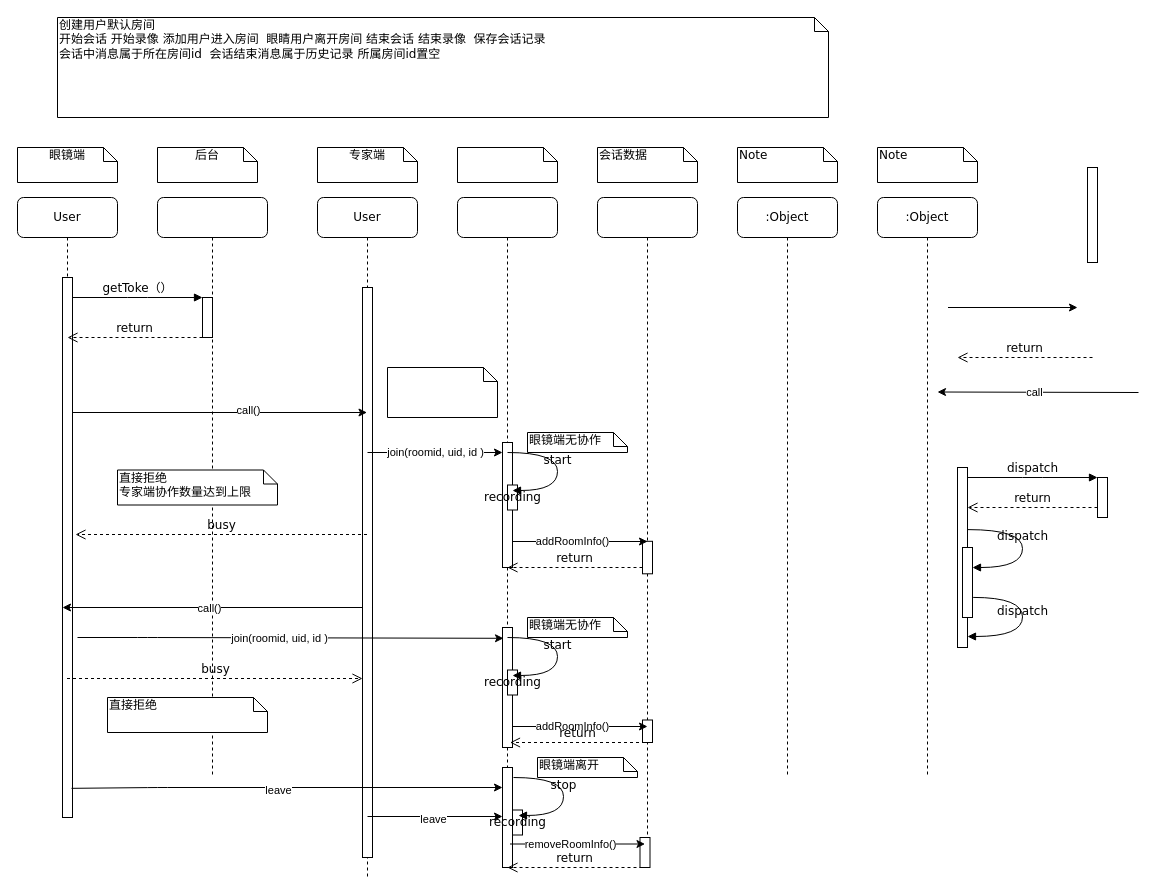
Some shapes in this 1164 by 895 pixel diagram are drawn without their labels. The box of each missing label's shape, as (x1, y1, x2, y2) in pixels:
java: (456, 196, 558, 868)
Java API: (156, 196, 268, 778)
room: (596, 196, 698, 868)
眼镜端无协作 眼镜端已被协作 都无影响: (386, 366, 498, 418)
